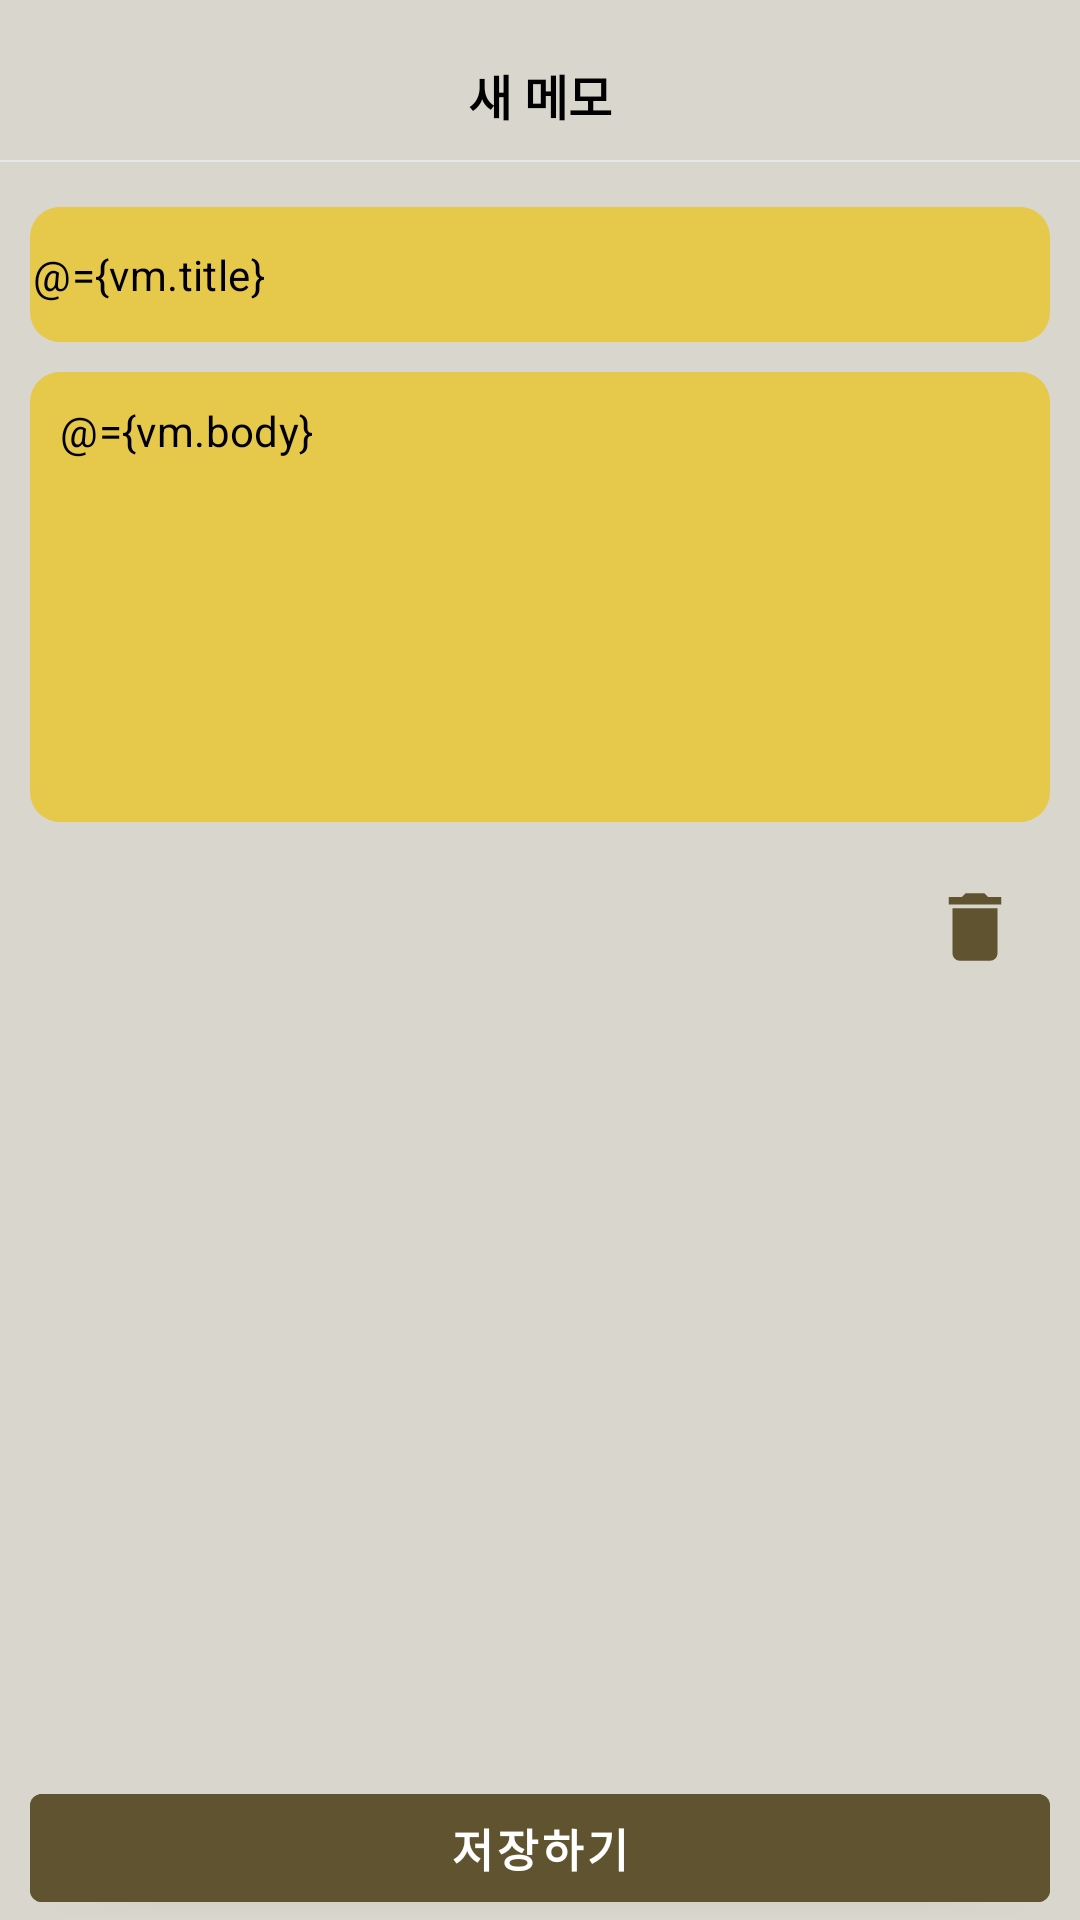

Named icons in this screenshot (1080 x 1920) and their centers, (x,y):
delete: (975,927)
